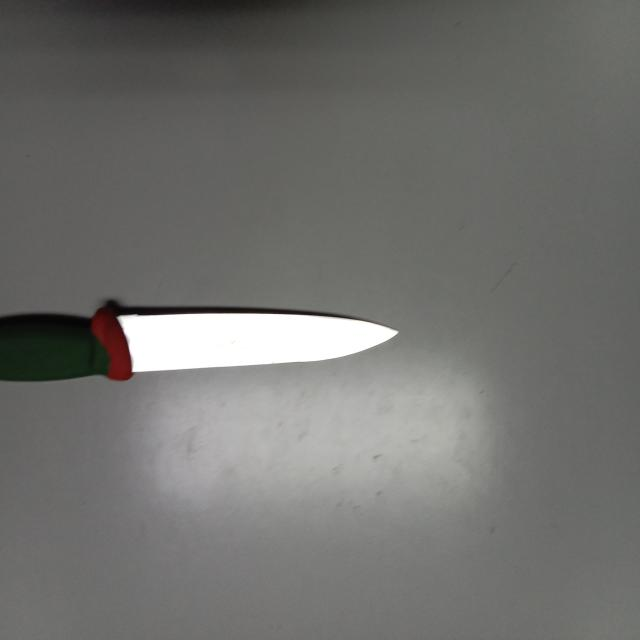Knife: (0, 307, 398, 381)
